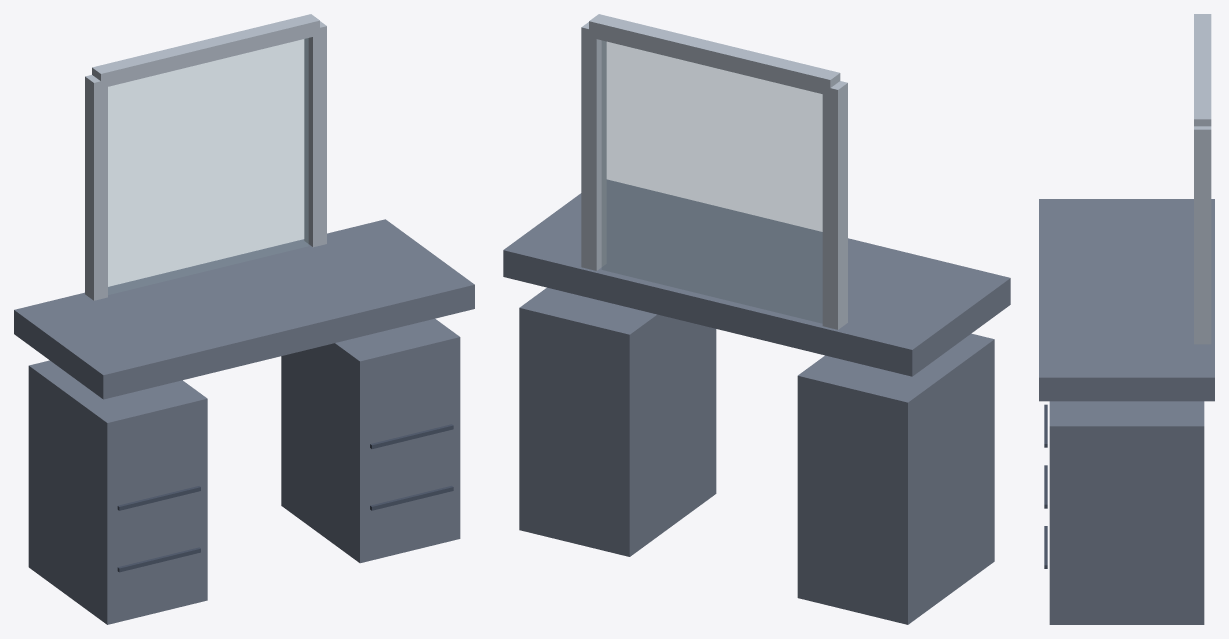
The model's file is vanity.glb.
3 views of the same model, side by side, from view 1: azimuth 30°, elevation 25°; view 2: azimuth 150°, elevation 25°; view 3: azimuth 270°, elevation 25° (orthographic). The views are drawn at different scales.
Parts seen in each view (by area): view 1: vanity; view 2: vanity; view 3: vanity.
Part boxes in pixels (left/top/right/bottom): vanity: left=14, top=14, right=474, bottom=624; vanity: left=503, top=14, right=1010, bottom=624; vanity: left=1039, top=14, right=1214, bottom=624.
Bounding box in the file's own units: 1.2 × 1.48 × 0.5.
